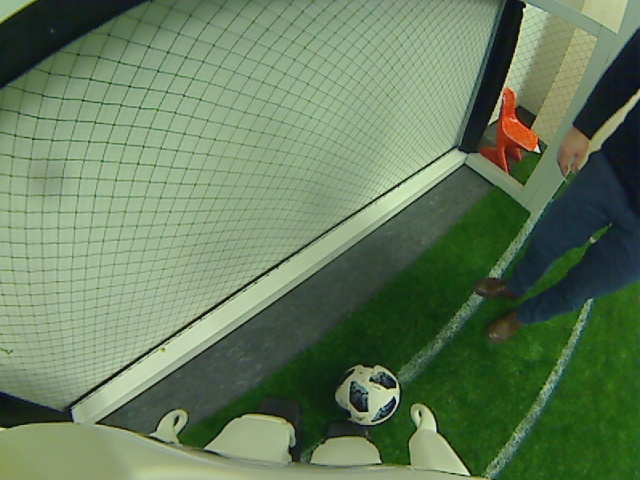ball: (334, 359, 402, 427)
